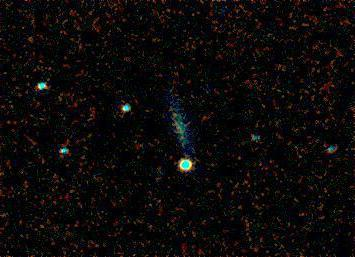star: (160, 100, 190, 130)
